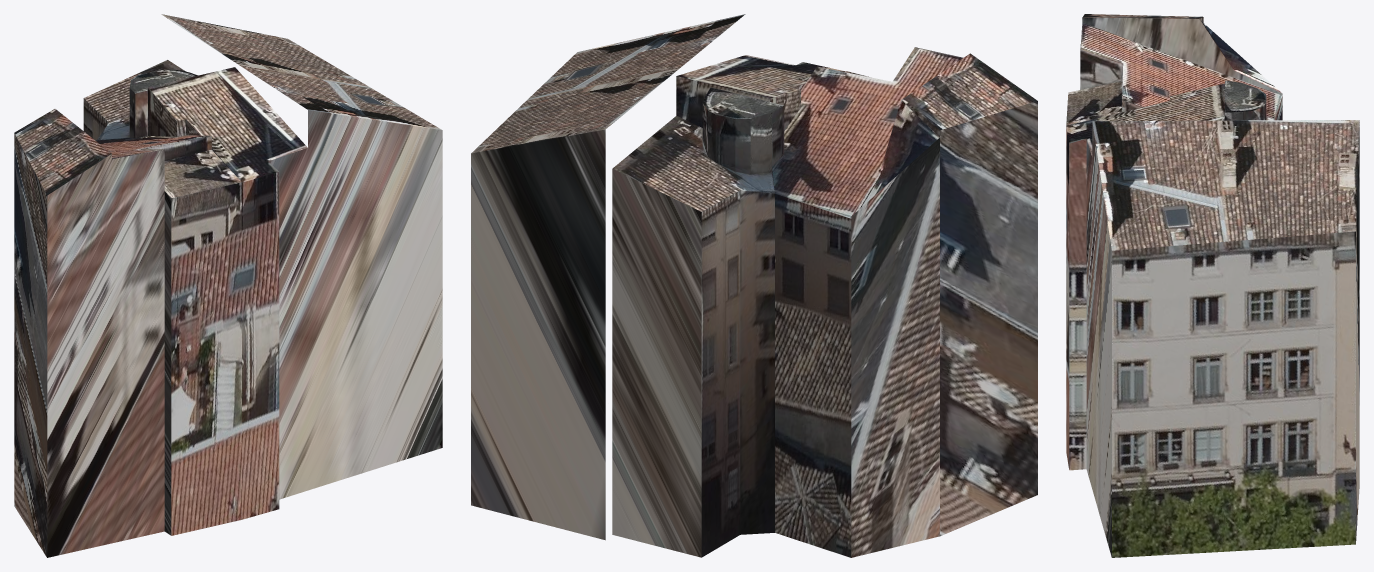
3 views of the same model, side by side, from view 1: azimuth 30°, elevation 25°; view 2: azimuth 150°, elevation 25°; view 3: azimuth 270°, elevation 25° (orthographic). The views are drawn at different scales.
Parts seen in each view (by area): view 1: Z_UP; view 2: Z_UP; view 3: Z_UP.
Part boxes in pixels (x1,y1,x2,y2): Z_UP: [14, 14, 442, 557]; Z_UP: [471, 14, 1037, 557]; Z_UP: [1066, 14, 1359, 557].
Bounding box in the file's own units: 24.63 × 22.41 × 15.8.
Materials: 2 (1 with a texture image).
